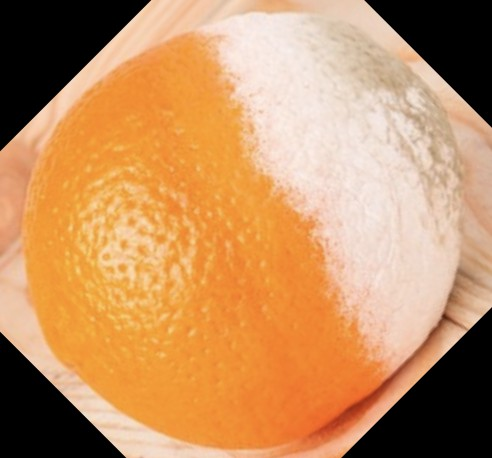rotten_orange: (22, 12, 462, 449)
